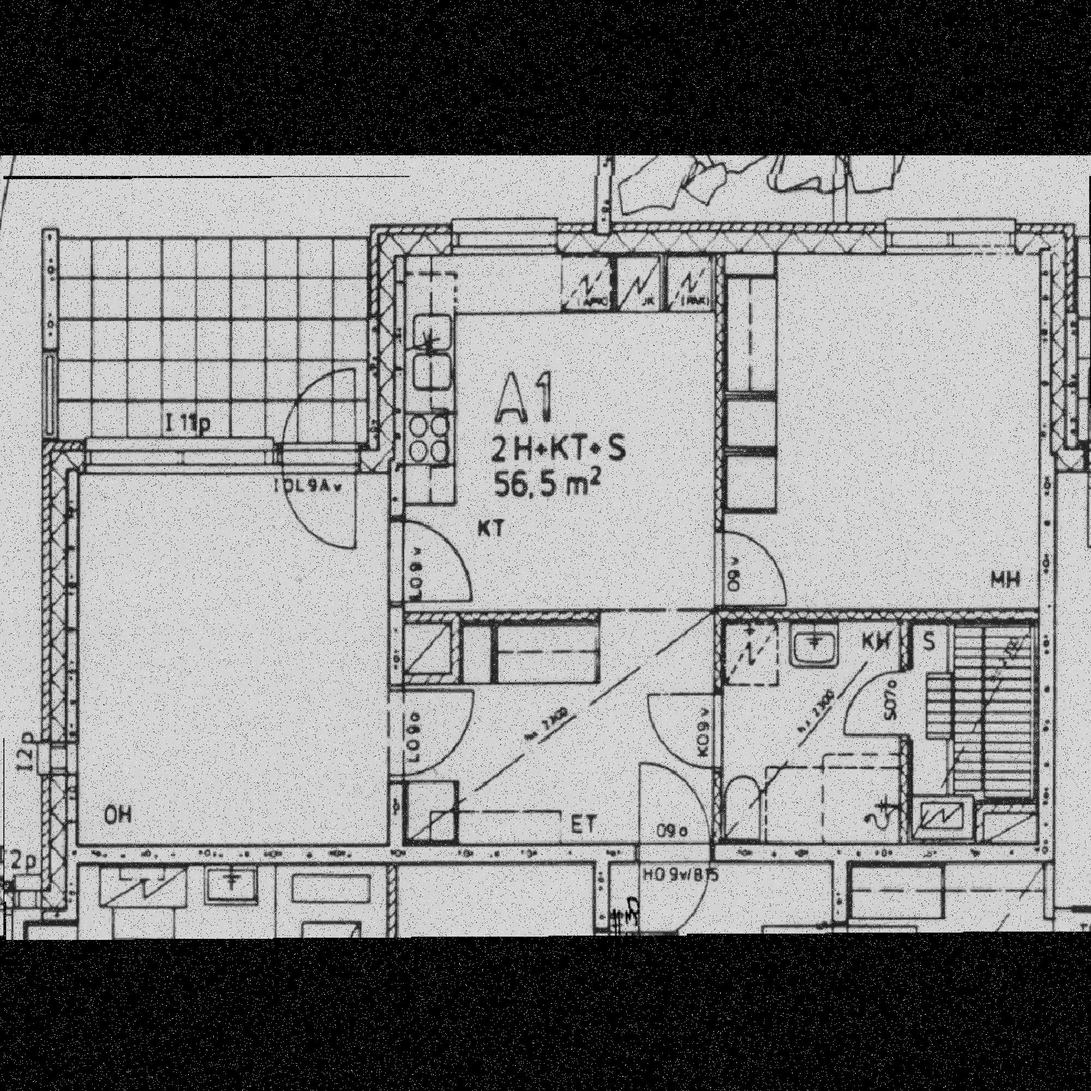wall: (369, 221, 1076, 255), (41, 841, 899, 863), (41, 441, 79, 863), (41, 441, 406, 474), (368, 221, 406, 475), (1038, 221, 1076, 471), (388, 441, 406, 863), (713, 222, 723, 863), (1034, 609, 1056, 863), (389, 609, 463, 684), (713, 608, 1056, 624), (976, 800, 1056, 863), (41, 228, 59, 475), (900, 609, 913, 863), (1038, 470, 1056, 608), (463, 608, 598, 624), (899, 841, 976, 863)
